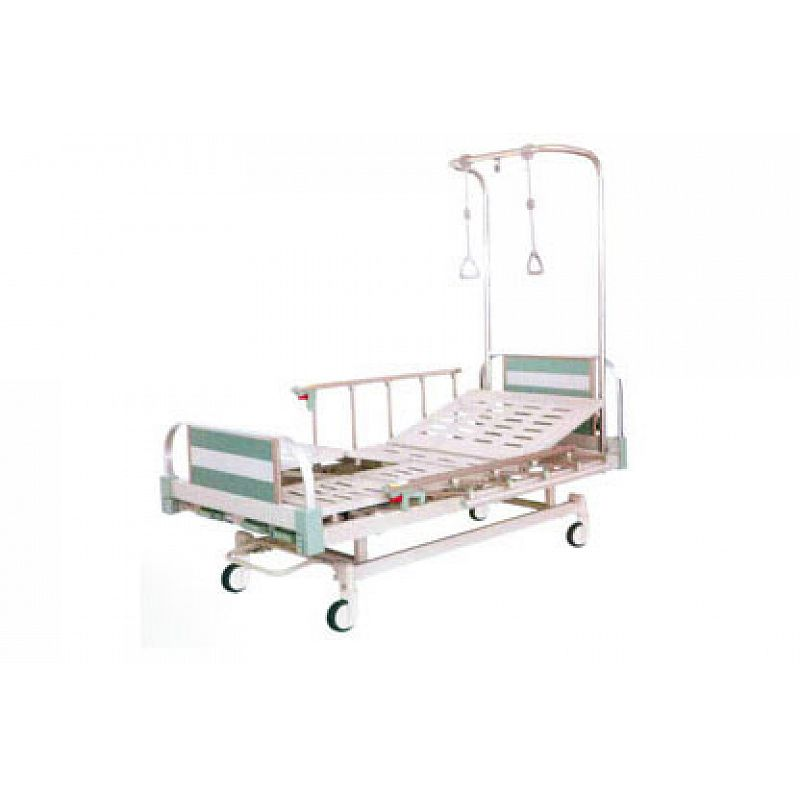trolley_bed: (149, 135, 631, 641)
